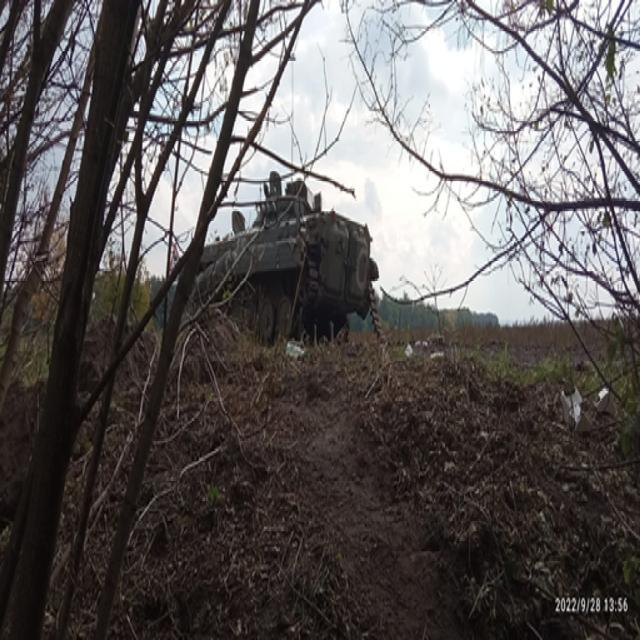APC-IFV: (168, 167, 378, 356)
